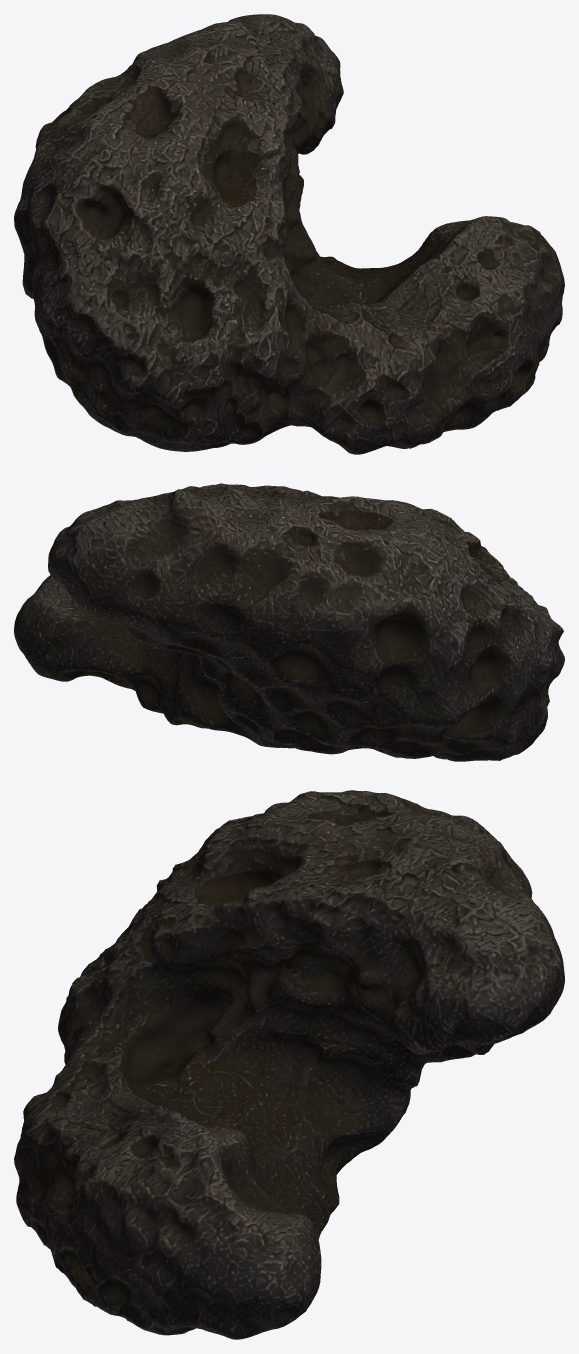
File: asteroid_rare_2.glb
3 renders of one model, top to bottom at view 1: azimuth 30°, elevation 25°; view 2: azimuth 150°, elevation 25°; view 3: azimuth 270°, elevation 25°, orthographic. The views are drawn at different scales.
Parts seen in each view (by area): view 1: model; view 2: model; view 3: model.
Boxes of the visible parts, bbox=[...] form: model: bbox=[14, 14, 564, 454]; model: bbox=[14, 483, 564, 761]; model: bbox=[14, 790, 564, 1339].
Size of the model in its own units: 1.9 by 1.15 by 1.45.
1 material, 1 textured.
